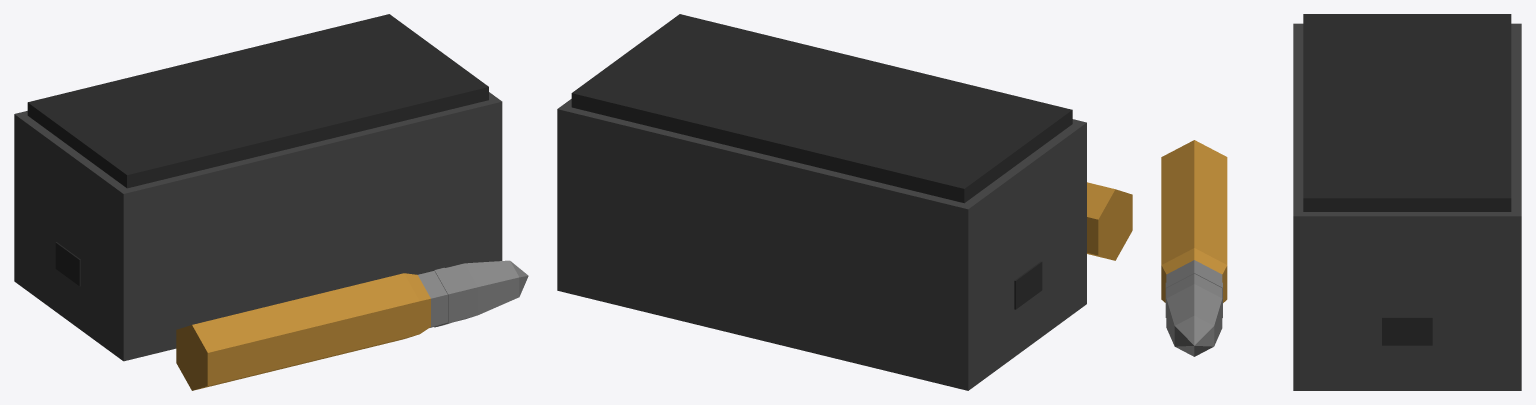
Rendered from ce_ammo_heavy_apcr_c.obj.
3 renders of one model, left to right at view 1: azimuth 30°, elevation 25°; view 2: azimuth 150°, elevation 25°; view 3: azimuth 270°, elevation 25°, orthographic. The views are drawn at different scales.
Visible parts, largest first — view 1: ce_ammo_heavy_apcr_c_0, ce_ammo_heavy_apcr_c_1, ce_ammo_heavy_apcr_c_3, ce_ammo_heavy_apcr_c_8, ce_ammo_heavy_apcr_c_7, ce_ammo_heavy_apcr_c_5, ce_ammo_heavy_apcr_c_2, ce_ammo_heavy_apcr_c_4, ce_ammo_heavy_apcr_c_6; view 2: ce_ammo_heavy_apcr_c_0, ce_ammo_heavy_apcr_c_1, ce_ammo_heavy_apcr_c_3, ce_ammo_heavy_apcr_c_2; view 3: ce_ammo_heavy_apcr_c_0, ce_ammo_heavy_apcr_c_1, ce_ammo_heavy_apcr_c_3, ce_ammo_heavy_apcr_c_8, ce_ammo_heavy_apcr_c_2, ce_ammo_heavy_apcr_c_9, ce_ammo_heavy_apcr_c_4, ce_ammo_heavy_apcr_c_7, ce_ammo_heavy_apcr_c_5, ce_ammo_heavy_apcr_c_6.
Boxes of the visible parts, bbox=[...] form: ce_ammo_heavy_apcr_c_0: bbox=[14, 92, 502, 361]; ce_ammo_heavy_apcr_c_1: bbox=[27, 14, 488, 188]; ce_ammo_heavy_apcr_c_3: bbox=[176, 273, 419, 390]; ce_ammo_heavy_apcr_c_8: bbox=[465, 260, 519, 314]; ce_ammo_heavy_apcr_c_7: bbox=[445, 263, 478, 321]; ce_ammo_heavy_apcr_c_5: bbox=[418, 270, 447, 327]; ce_ammo_heavy_apcr_c_2: bbox=[55, 242, 80, 286]; ce_ammo_heavy_apcr_c_4: bbox=[404, 273, 430, 333]; ce_ammo_heavy_apcr_c_6: bbox=[428, 267, 458, 327]; ce_ammo_heavy_apcr_c_0: bbox=[557, 99, 1086, 390]; ce_ammo_heavy_apcr_c_1: bbox=[571, 14, 1072, 203]; ce_ammo_heavy_apcr_c_3: bbox=[1087, 182, 1132, 260]; ce_ammo_heavy_apcr_c_2: bbox=[1014, 261, 1042, 309]; ce_ammo_heavy_apcr_c_0: bbox=[1293, 23, 1521, 390]; ce_ammo_heavy_apcr_c_1: bbox=[1303, 14, 1511, 211]; ce_ammo_heavy_apcr_c_3: bbox=[1161, 140, 1227, 264]; ce_ammo_heavy_apcr_c_8: bbox=[1166, 284, 1222, 345]; ce_ammo_heavy_apcr_c_2: bbox=[1382, 317, 1432, 345]; ce_ammo_heavy_apcr_c_9: bbox=[1174, 315, 1214, 356]; ce_ammo_heavy_apcr_c_4: bbox=[1161, 248, 1227, 302]; ce_ammo_heavy_apcr_c_7: bbox=[1166, 273, 1222, 298]; ce_ammo_heavy_apcr_c_5: bbox=[1166, 260, 1222, 282]; ce_ammo_heavy_apcr_c_6: bbox=[1165, 268, 1222, 317].
Size of the model in its own units: 0.906 by 0.41 by 0.71.
